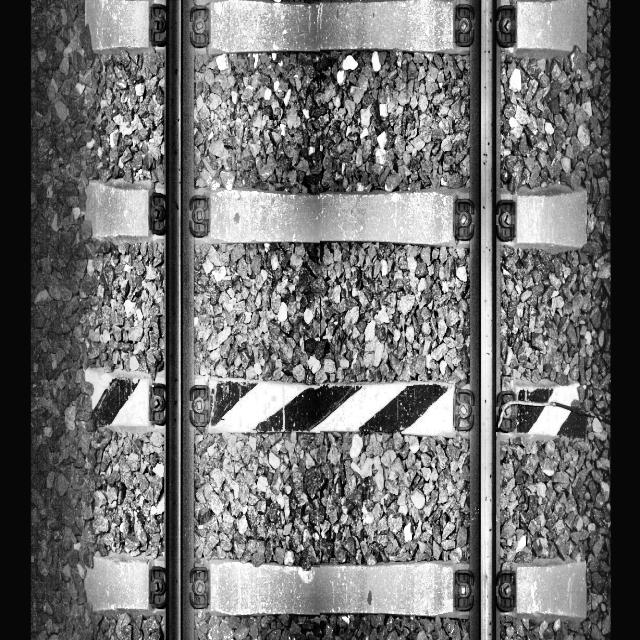Clips: (189, 378, 214, 438), (492, 562, 518, 618), (450, 562, 476, 613), (146, 375, 170, 429), (452, 194, 477, 245), (493, 193, 518, 244), (496, 384, 520, 437), (188, 190, 212, 242), (187, 563, 212, 611), (452, 385, 476, 434), (148, 560, 170, 612), (190, 1, 213, 50), (148, 0, 170, 51), (452, 0, 475, 48), (493, 4, 517, 50), (150, 189, 168, 238)
Sleepers: (84, 363, 589, 450), (78, 548, 591, 630), (81, 175, 590, 257), (82, 0, 589, 60)
